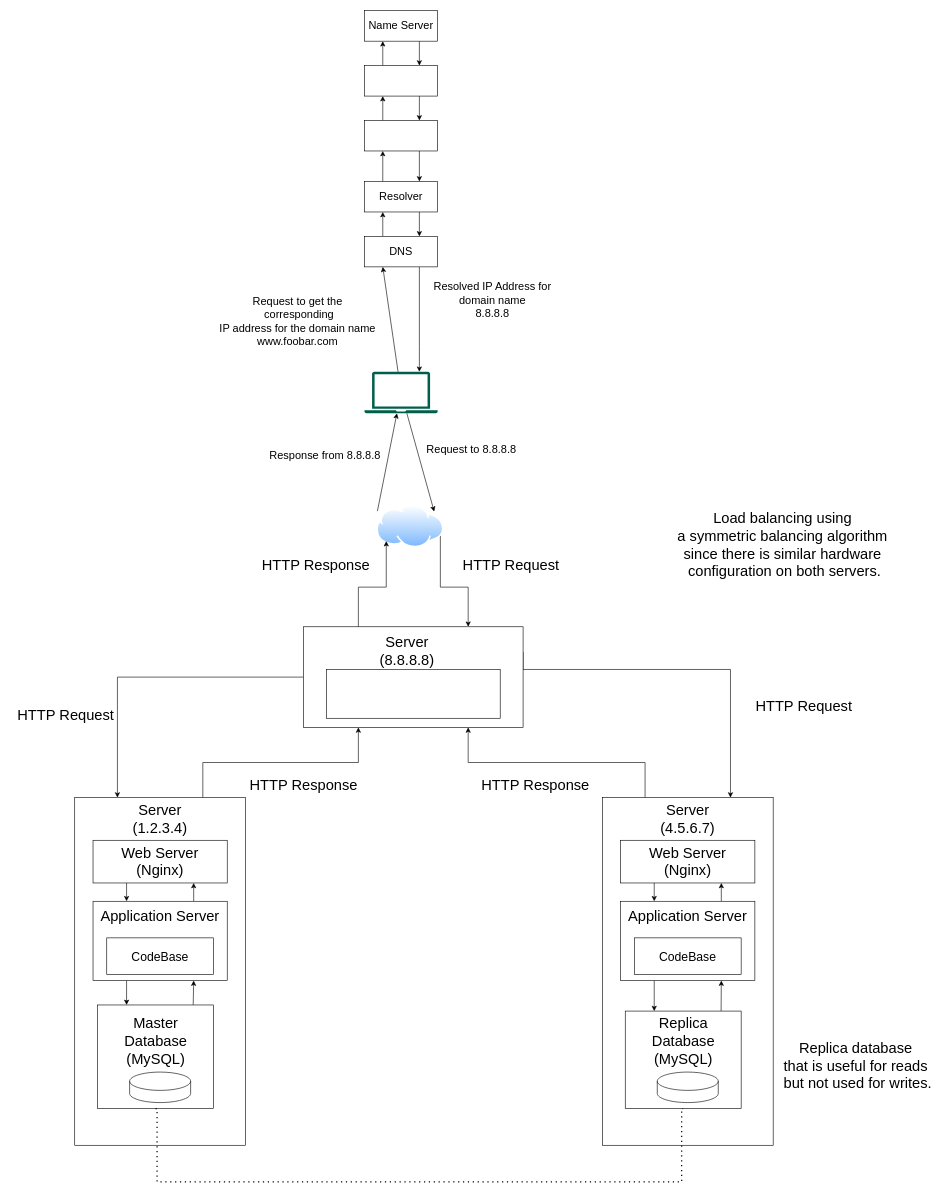
The diagram is 948 pixels wide and 1194 high, and some of its shapes have lost their labels. The shapes that lost their labels are listed below. From the top down, each one's box as (x1, y1, x2, y2) in pixels, then its label:
(364, 65, 438, 96): Top Level Domain
(364, 120, 438, 151): Root
(376, 505, 443, 547): Internet
(326, 669, 500, 718): Load Balancer (HAProxy)
